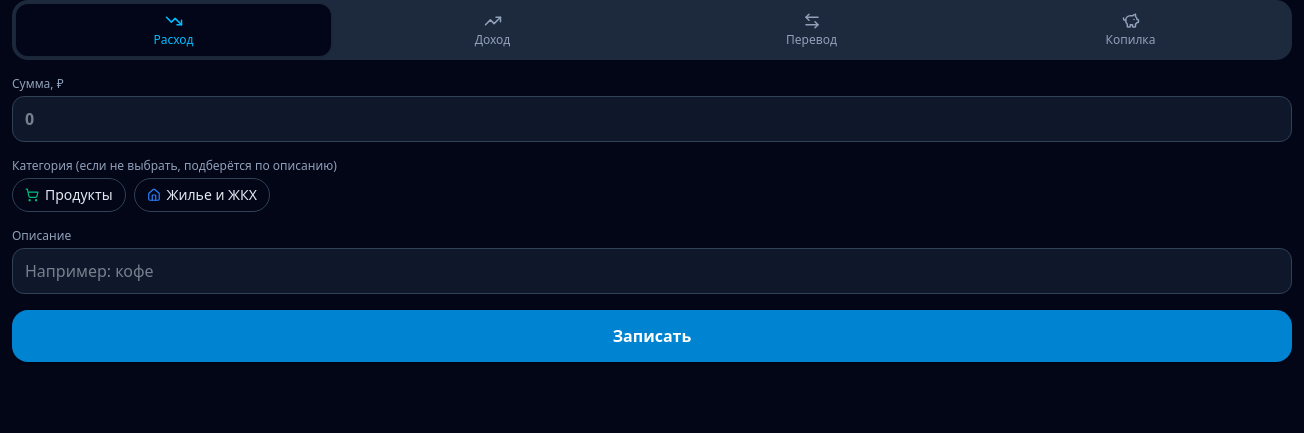
Test case: EntryForm (Mini App input) › cancels the last entry and says so
The image size is (1304, 433).
Expected: the element named "Тип записи" is shown, [12, 0, 1292, 60]
Step 1. Type "540" into the field labelled "Сумма, ₽" → (652,119), box [12, 96, 1292, 142]
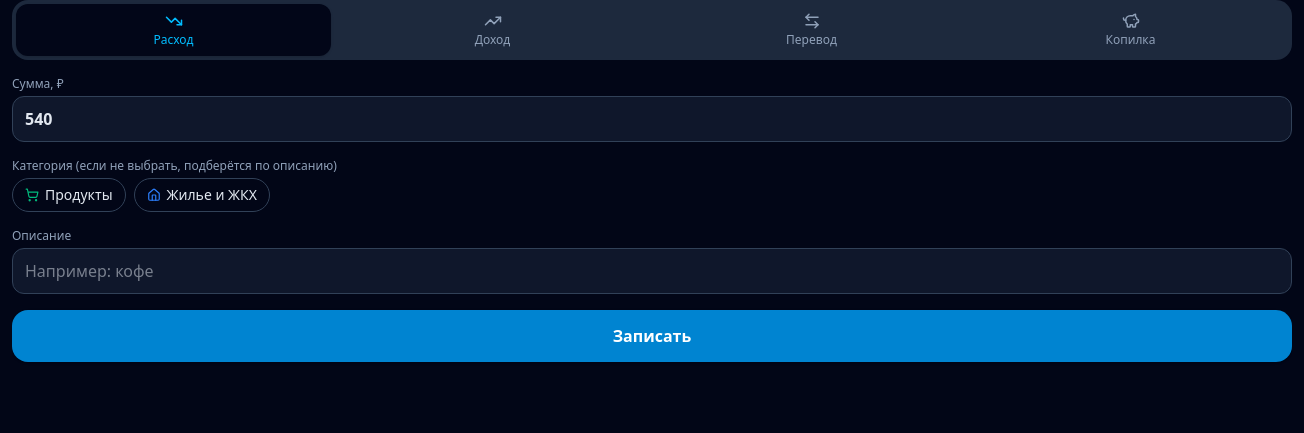
Step 2. Click the button "Записать" → (652,336), box [12, 310, 1292, 362]
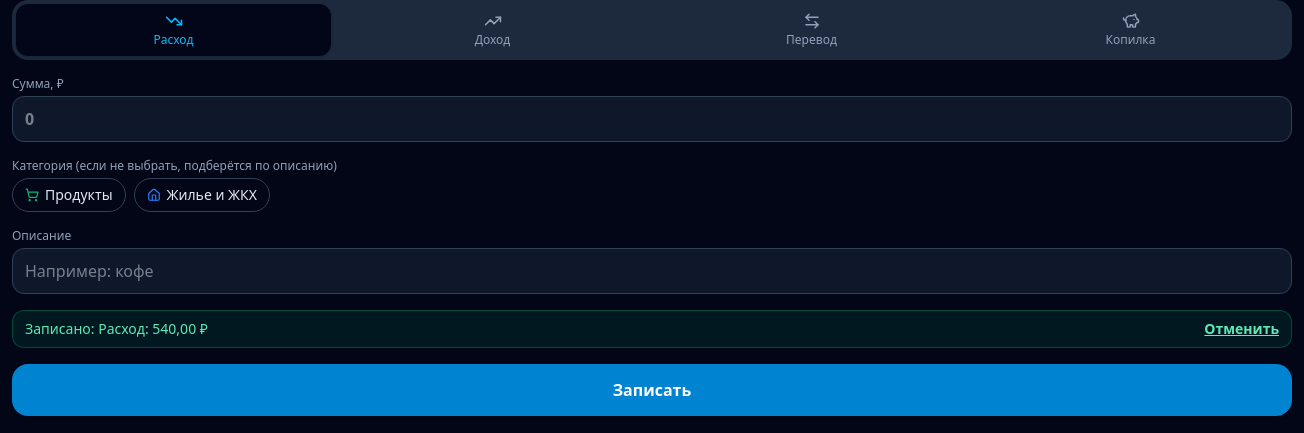
Step 3. Click the button "Отменить" → (1242,329), box [1204, 319, 1279, 339]
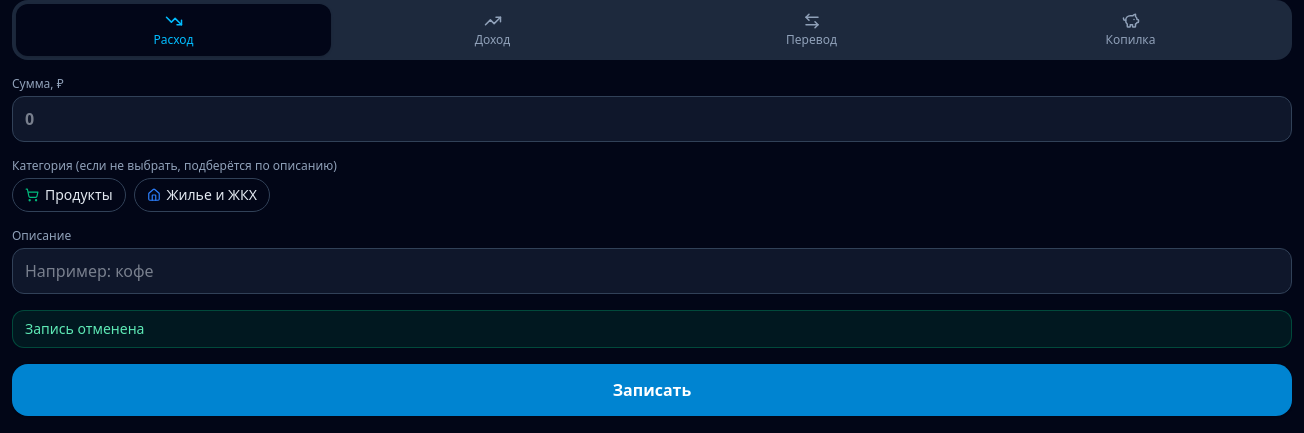
Expected: the text "Запись отменена" is shown, [25, 319, 144, 339]
